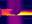Hotspot: (18, 10, 31, 15)
